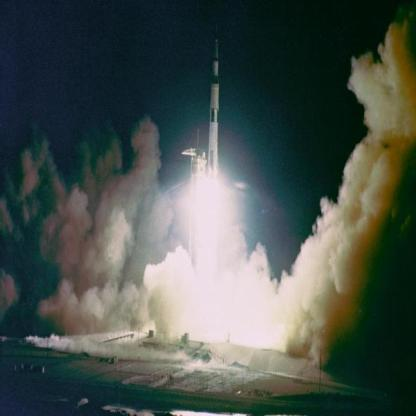MIL_TBM: (208, 34, 222, 175)
